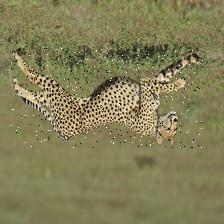Cheetha: (12, 45, 204, 148)
